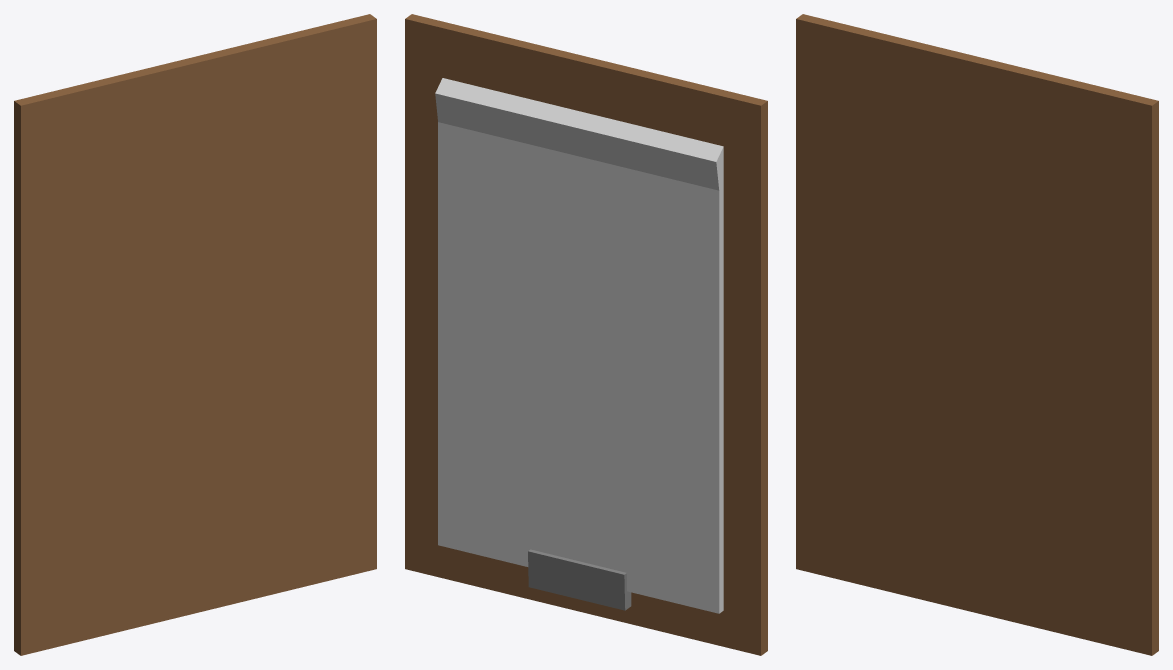
Rendered from Notepad.glb.
The picture shows the model from 3 angles, left to right: view 1: azimuth 30°, elevation 25°; view 2: azimuth 150°, elevation 25°; view 3: azimuth 330°, elevation 25°; orthographic projection.
Visible parts, largest first — view 1: Notepad; view 2: Notepad; view 3: Notepad.
Boxes of the visible parts, x1,y1,x2,y2 form: Notepad: (14, 14, 376, 655); Notepad: (405, 14, 767, 655); Notepad: (796, 14, 1158, 655).
Bounding box in the file's own units: 0.2098 × 0.3098 × 0.0144.
1 material, 1 textured.
